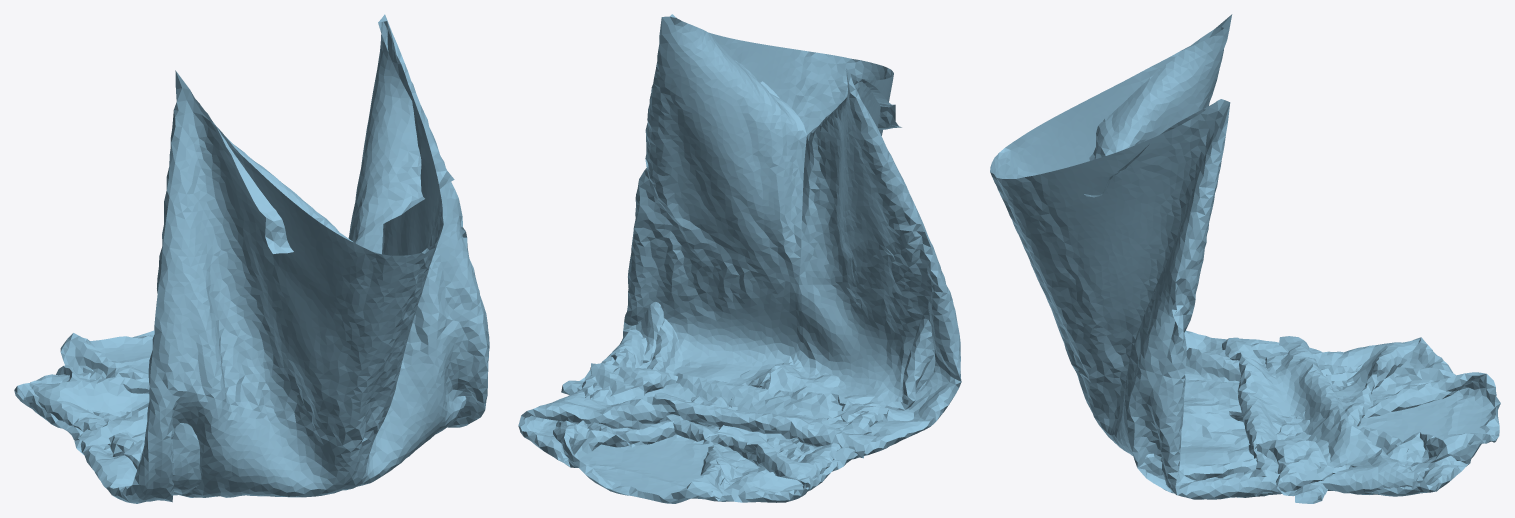
File: frame_12.glb
3 renders of one model, left to right at view 1: azimuth 30°, elevation 25°; view 2: azimuth 150°, elevation 25°; view 3: azimuth 270°, elevation 25°, orthographic. The views are drawn at different scales.
Parts seen in each view (by area): view 1: frame_12.obj; view 2: frame_12.obj; view 3: frame_12.obj.
Boxes of the visible parts, left/top/right/bottom form: frame_12.obj: left=14, top=14, right=489, bottom=503; frame_12.obj: left=518, top=14, right=961, bottom=503; frame_12.obj: left=990, top=14, right=1500, bottom=503.
Bounding box in the file's own units: 0.9242 × 0.9822 × 1.21.
